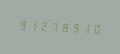eight: (57, 19, 66, 34)
nine: (17, 17, 26, 32), (67, 20, 76, 34)
one: (77, 20, 86, 35), (27, 18, 36, 32)
seven: (47, 19, 56, 33)
two: (37, 18, 46, 33)
zero: (87, 21, 96, 35)
